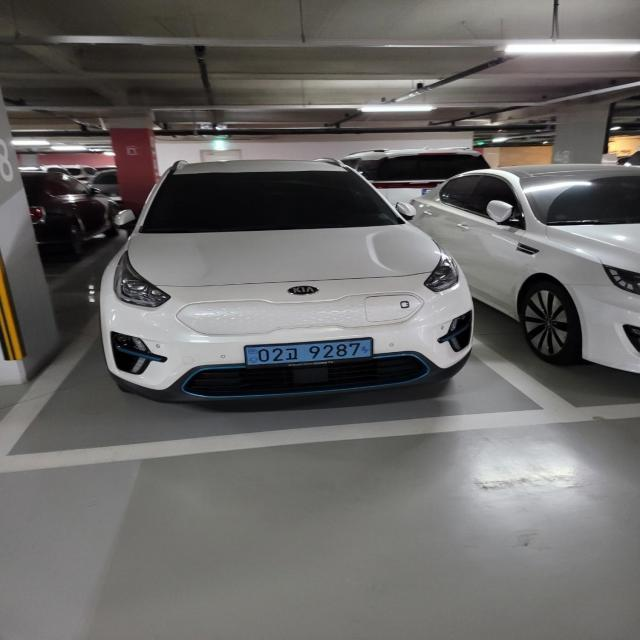EV_plate: (240, 339, 378, 372)
car: (94, 155, 477, 409)
